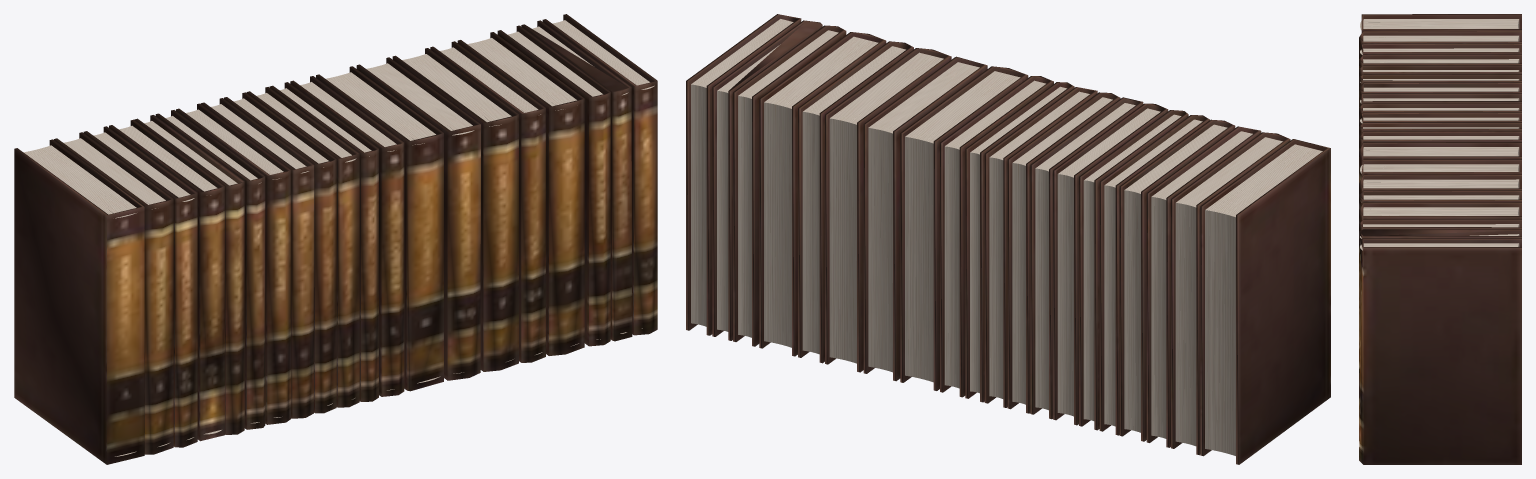
Rendered from book_encyclopedia_set_01.glb.
The picture shows the model from 3 angles, left to right: view 1: azimuth 30°, elevation 25°; view 2: azimuth 150°, elevation 25°; view 3: azimuth 270°, elevation 25°; orthographic projection. The views are drawn at different scales.
Visible parts, largest first — view 1: book_encyclopedia_set_01_book01; view 2: book_encyclopedia_set_01_book01; view 3: book_encyclopedia_set_01_book01.
Part boxes in pixels (<box>): book_encyclopedia_set_01_book01: <box>14,14,657,464</box>; book_encyclopedia_set_01_book01: <box>686,14,1330,464</box>; book_encyclopedia_set_01_book01: <box>1359,14,1521,464</box>.
Bounding box in the file's own units: 0.5513 × 0.2374 × 0.1619.
2 materials, 2 textured.
